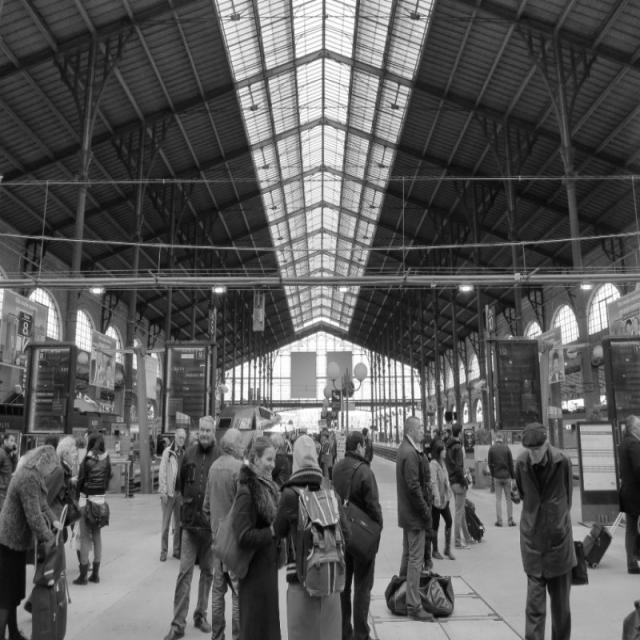body: (512, 419, 590, 639), (272, 431, 354, 639), (209, 432, 286, 639), (0, 439, 72, 639), (162, 413, 222, 640), (328, 428, 386, 639), (200, 425, 246, 640), (393, 412, 437, 624), (66, 428, 113, 586), (442, 419, 480, 553), (43, 434, 83, 544), (157, 427, 188, 564), (616, 413, 640, 576), (428, 440, 456, 561), (486, 429, 517, 527), (418, 450, 436, 572), (170, 514, 200, 567), (70, 515, 97, 573), (311, 427, 338, 482), (272, 426, 294, 483), (421, 423, 452, 463), (617, 597, 639, 639), (545, 346, 565, 385), (1, 432, 18, 473), (147, 431, 170, 461), (95, 356, 114, 390), (621, 310, 639, 344), (360, 427, 374, 465), (43, 431, 61, 460), (73, 428, 93, 452), (187, 427, 200, 450), (297, 427, 310, 437), (284, 414, 294, 425)
